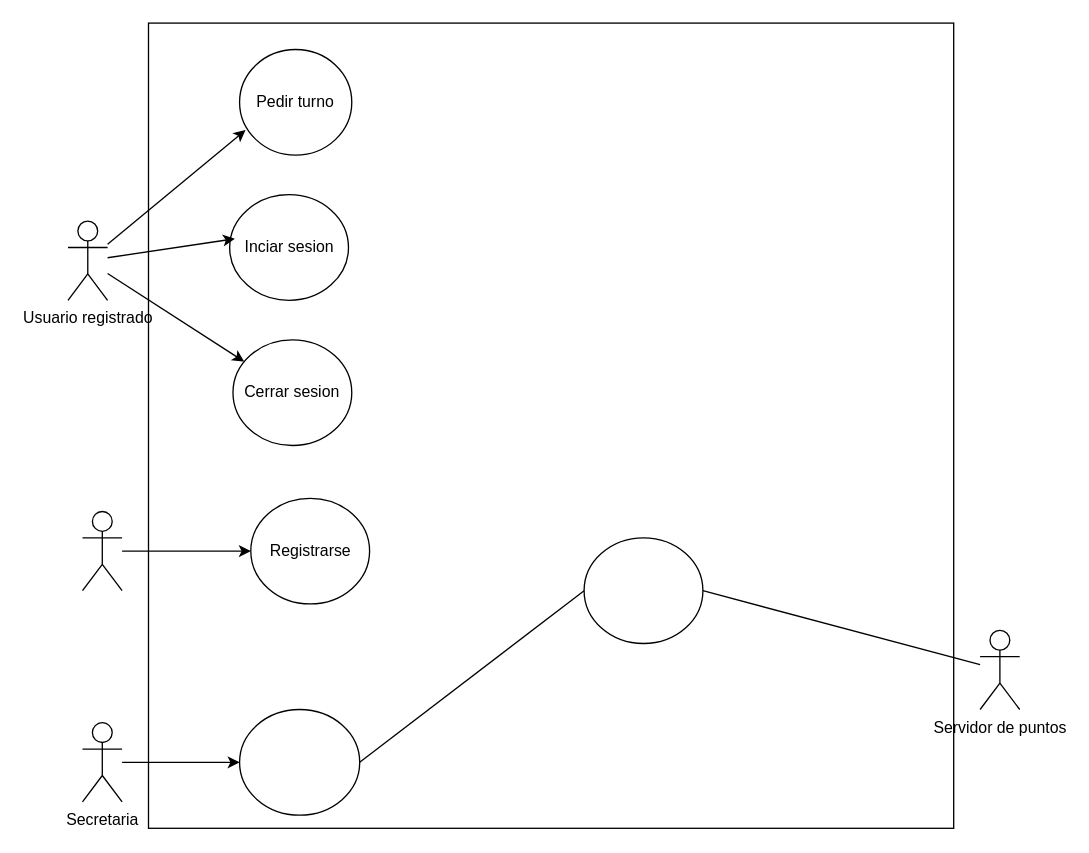
This 1089x853 diagram has some shape labels left out. The centre of each missing label's shape, as x and y in pixels:
"registrar llegada" goes at point 299,761.
"Sumar puntos" goes at point 643,590.
"Usuario no registrado" goes at point 101,550.
